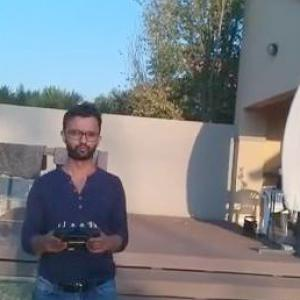follow: (19, 98, 136, 299)
